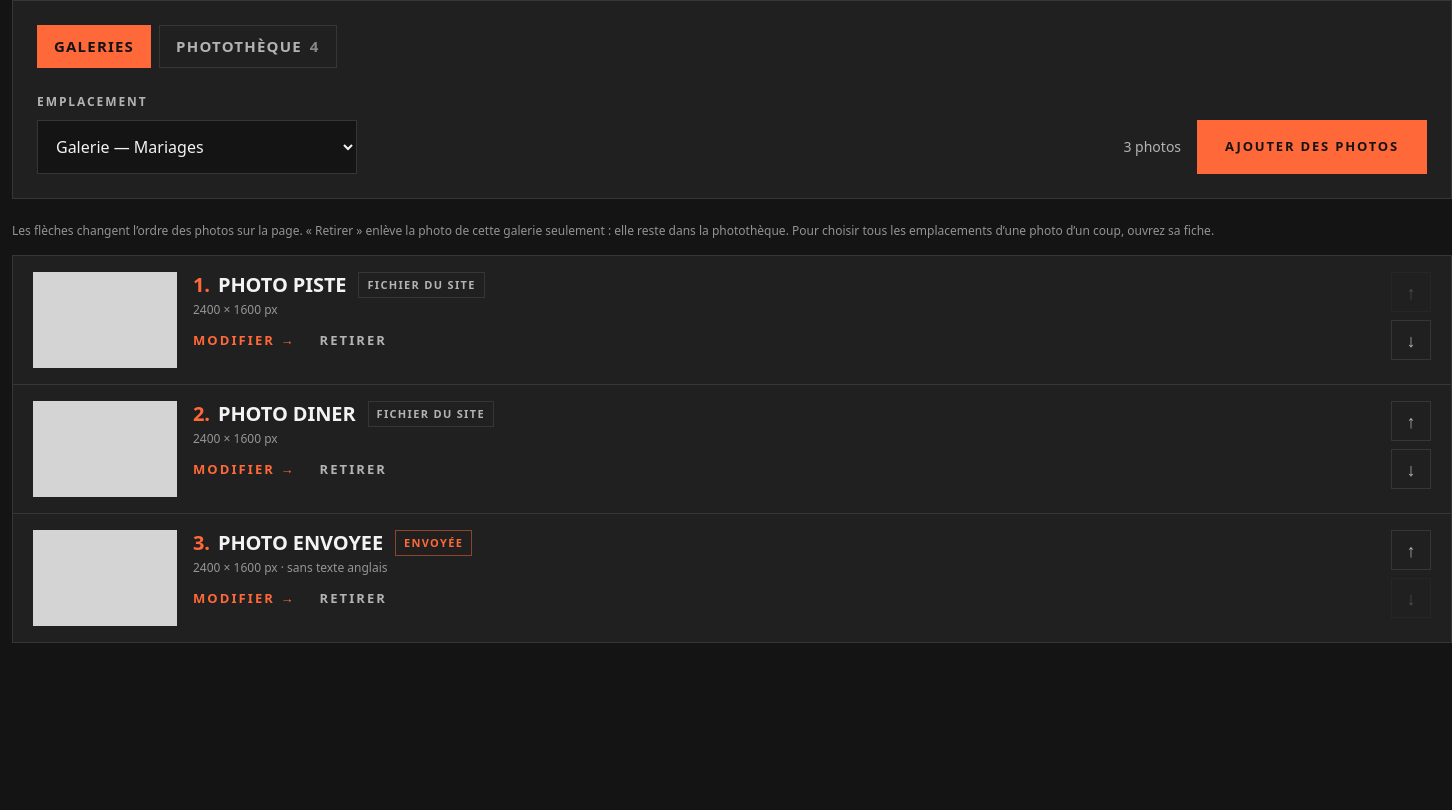
it: GestionPhotos — galeries › montre la galerie Mariages dans l’ordre, et change de galerie
The width and height of the screenshot is (1452, 810).
Select "Bar à vinyles" in the dropdown labelled "Emplacement". click: point(197, 146)
box: [37,120,357,174]
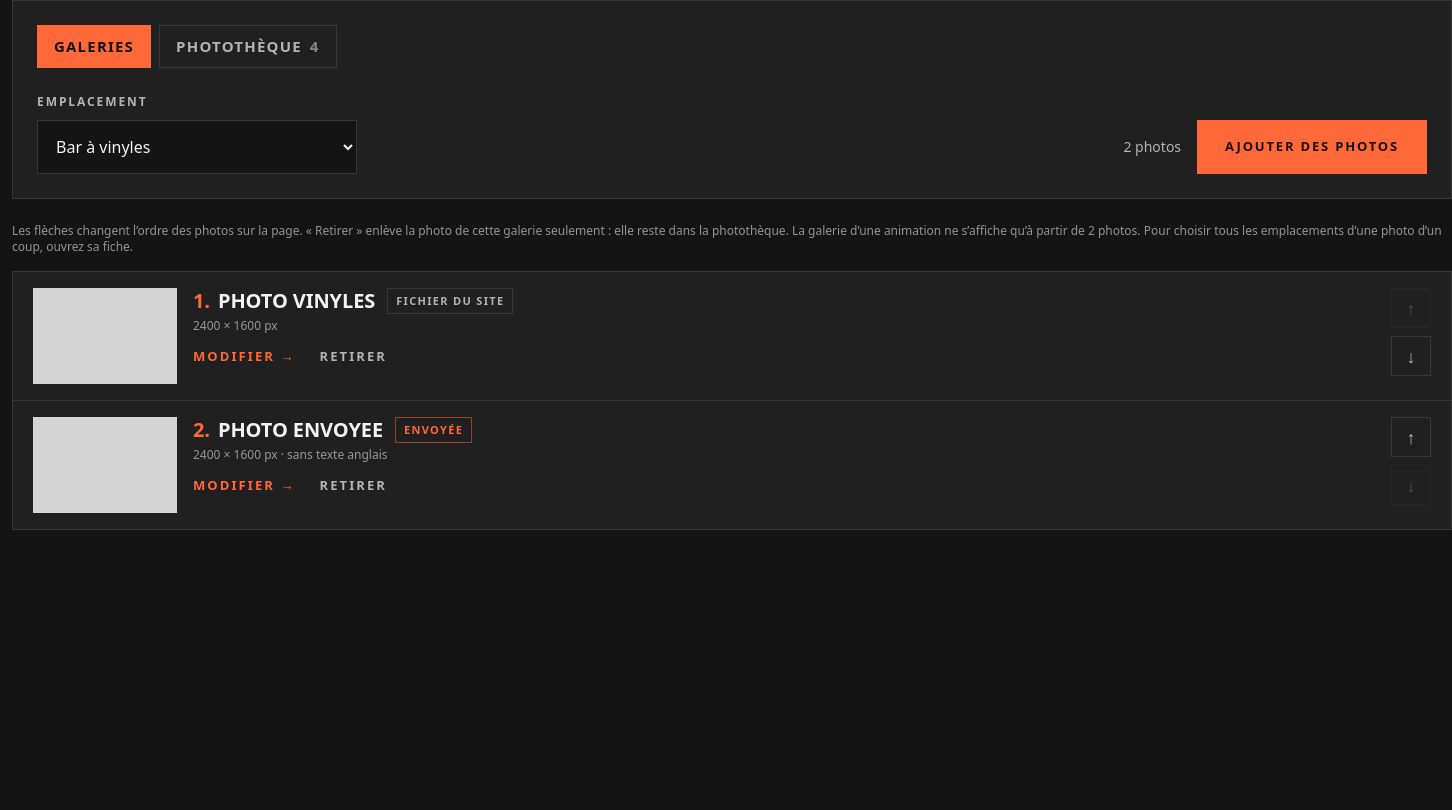
Select "Photobooth" in the dropdown labelled "Emplacement". click: point(197, 146)
box: [37,120,357,174]
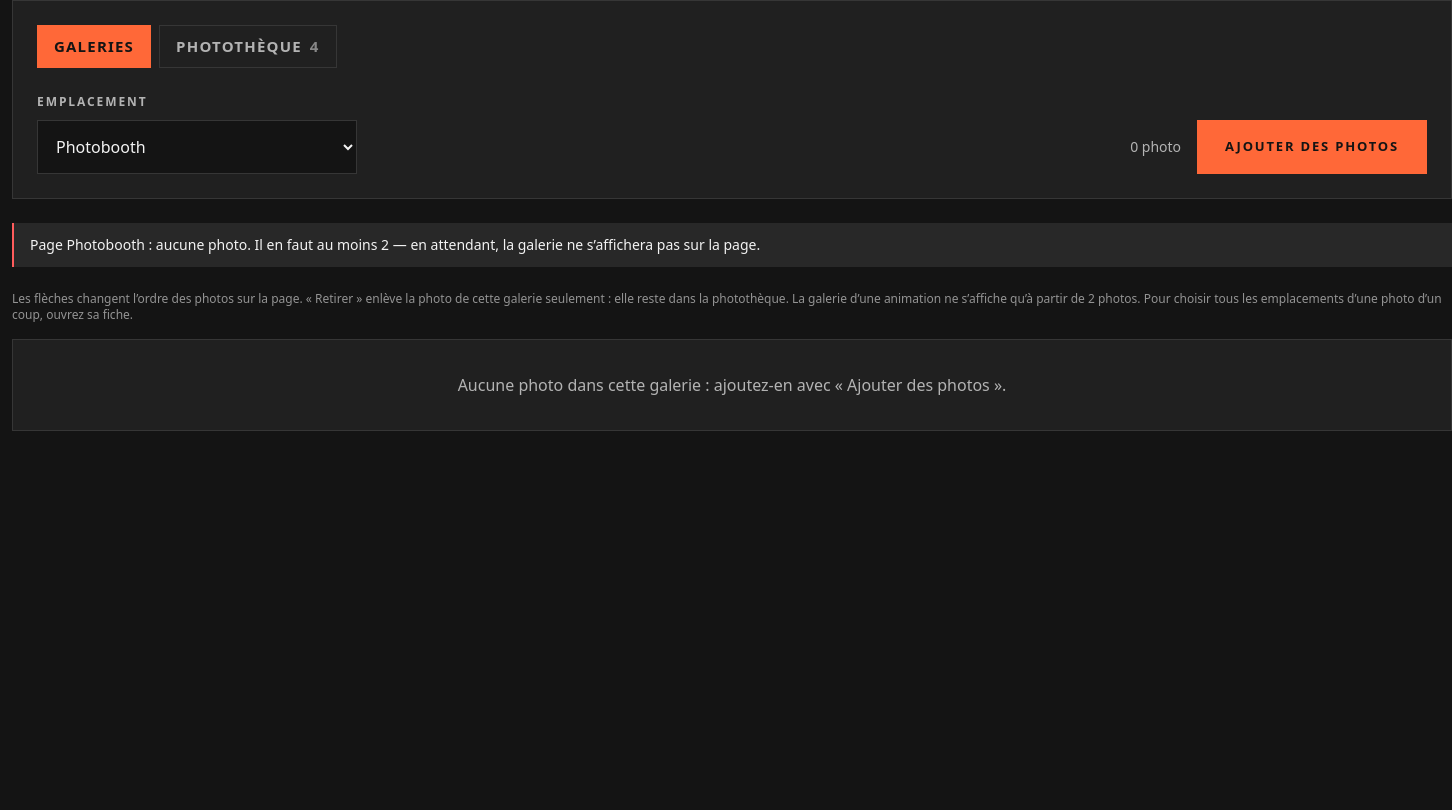
Expected: the 2nd message shows "Page Photobooth : aucune photo. Il en faut au moins 2", [30,234,760,254]
Expected: the text "Aucune photo dans cette galerie" is shown, [458,374,1006,396]
